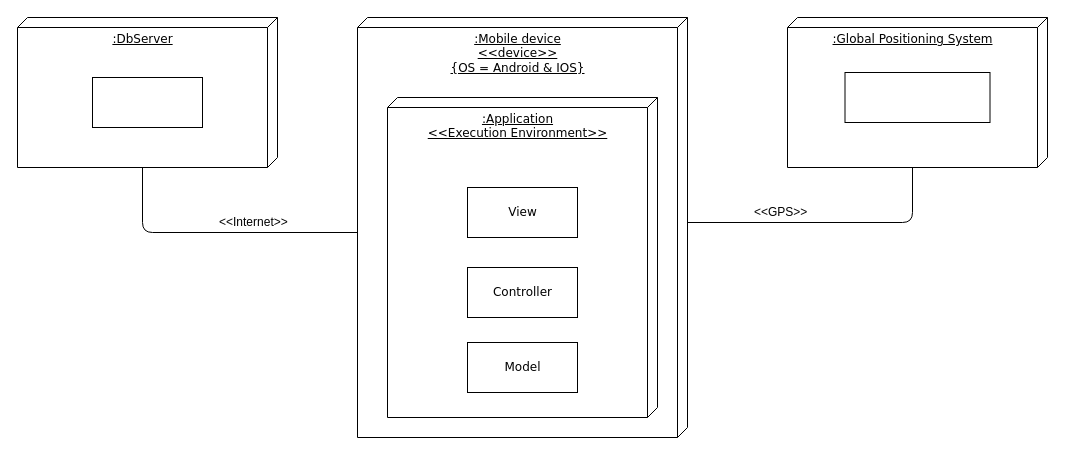
Some shapes in this 1065 by 455 pixel diagram are drawn without their labels. Here are the shapes that lost their labels. From the top down, the centre of each, then its label:
At point (147, 102): "Conference DB <<MongoDB>>".
At point (917, 97): "TOT message <<GPS Satellites>>".
